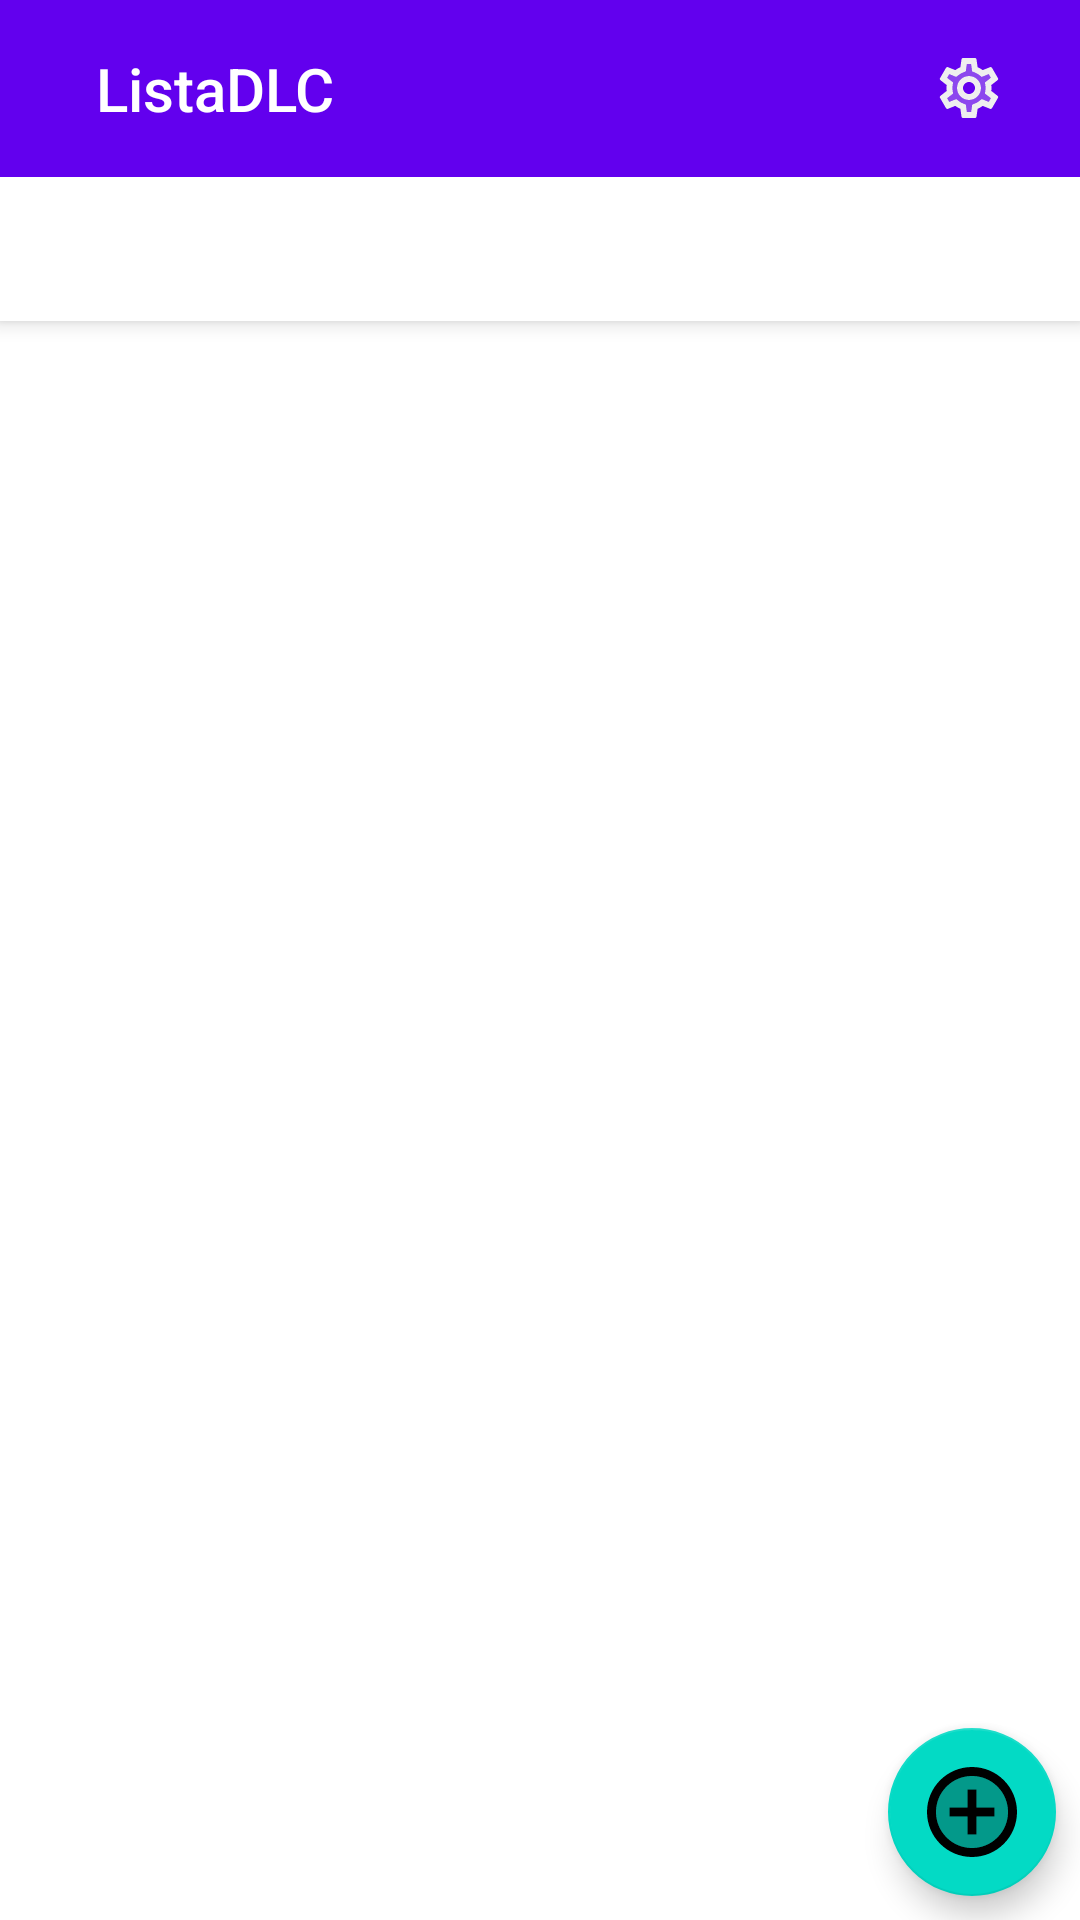

Icon click points for this 1080px×1920px phone screenshot, format [x,y]:
Añadir producto: [972,1812]
